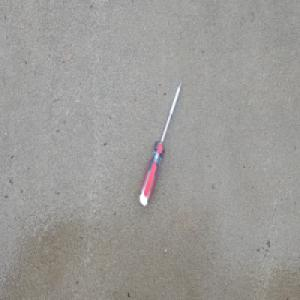Screwdriver: (138, 77, 183, 207)
